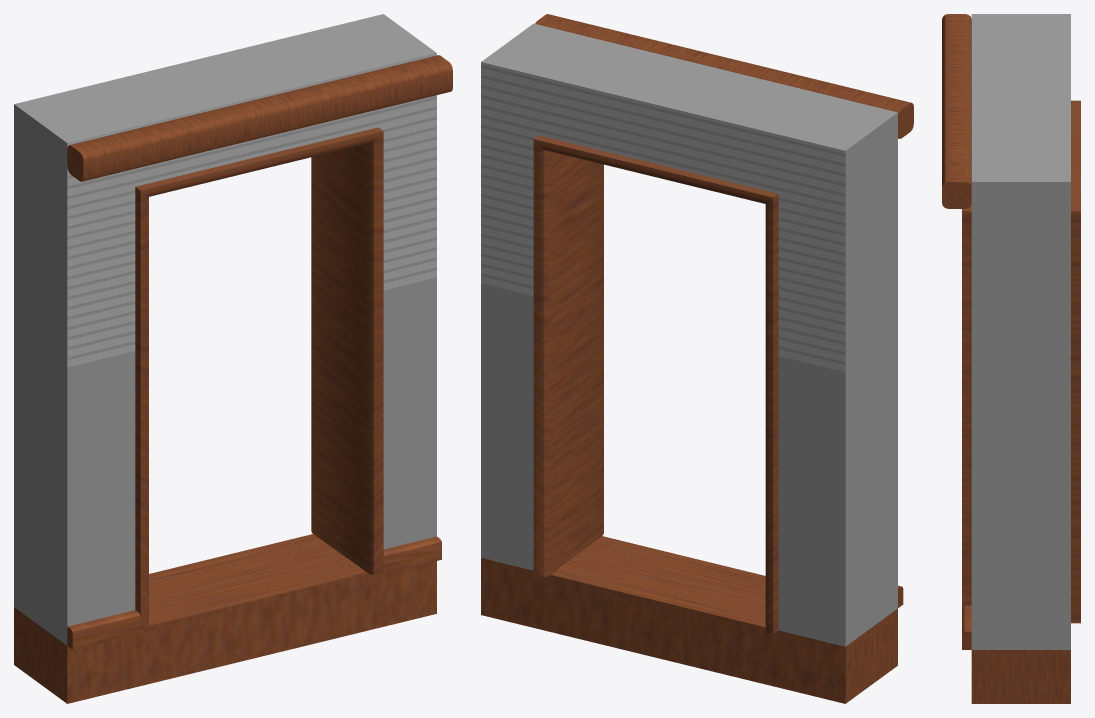
File: Wall_Open_1.fbx
3 views of the same model, side by side, from view 1: azimuth 30°, elevation 25°; view 2: azimuth 150°, elevation 25°; view 3: azimuth 270°, elevation 25° (orthographic). The views are drawn at different scales.
Parts seen in each view (by area): view 1: Wand Durchgang, Durchgang.002, Cube, Balken.003, Rand.001; view 2: Wand Durchgang, Durchgang.002, Cube, Balken.003; view 3: Wand Durchgang, Durchgang.002, Balken.003, Cube, Rand.001.
Boxes of the visible parts, x1,y1,x2,y2 form: Wand Durchgang: (14, 14, 436, 645); Durchgang.002: (135, 127, 383, 632); Cube: (14, 534, 436, 703); Balken.003: (67, 55, 452, 181); Rand.001: (67, 536, 441, 649); Wand Durchgang: (481, 23, 897, 646); Durchgang.002: (533, 135, 778, 633); Cube: (481, 536, 897, 703); Balken.003: (535, 14, 913, 138); Wand Durchgang: (971, 14, 1070, 649); Durchgang.002: (962, 100, 1080, 623); Balken.003: (942, 14, 971, 208); Cube: (971, 650, 1070, 703); Rand.001: (962, 605, 971, 649).
Size of the model in its own units: 200 by 290 by 69.94.
